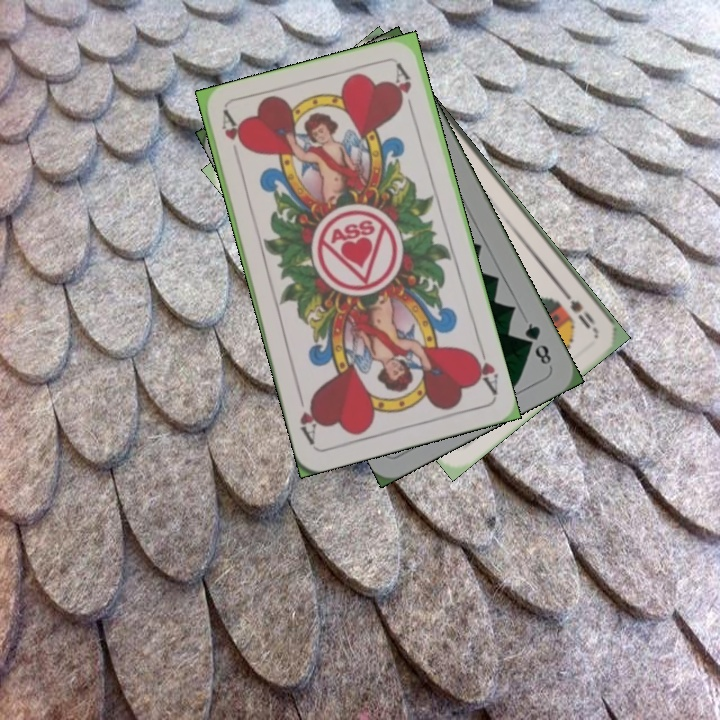G8: (520, 318, 554, 368)
HA: (466, 340, 501, 398), (217, 108, 246, 167)
SO: (556, 283, 599, 333)
